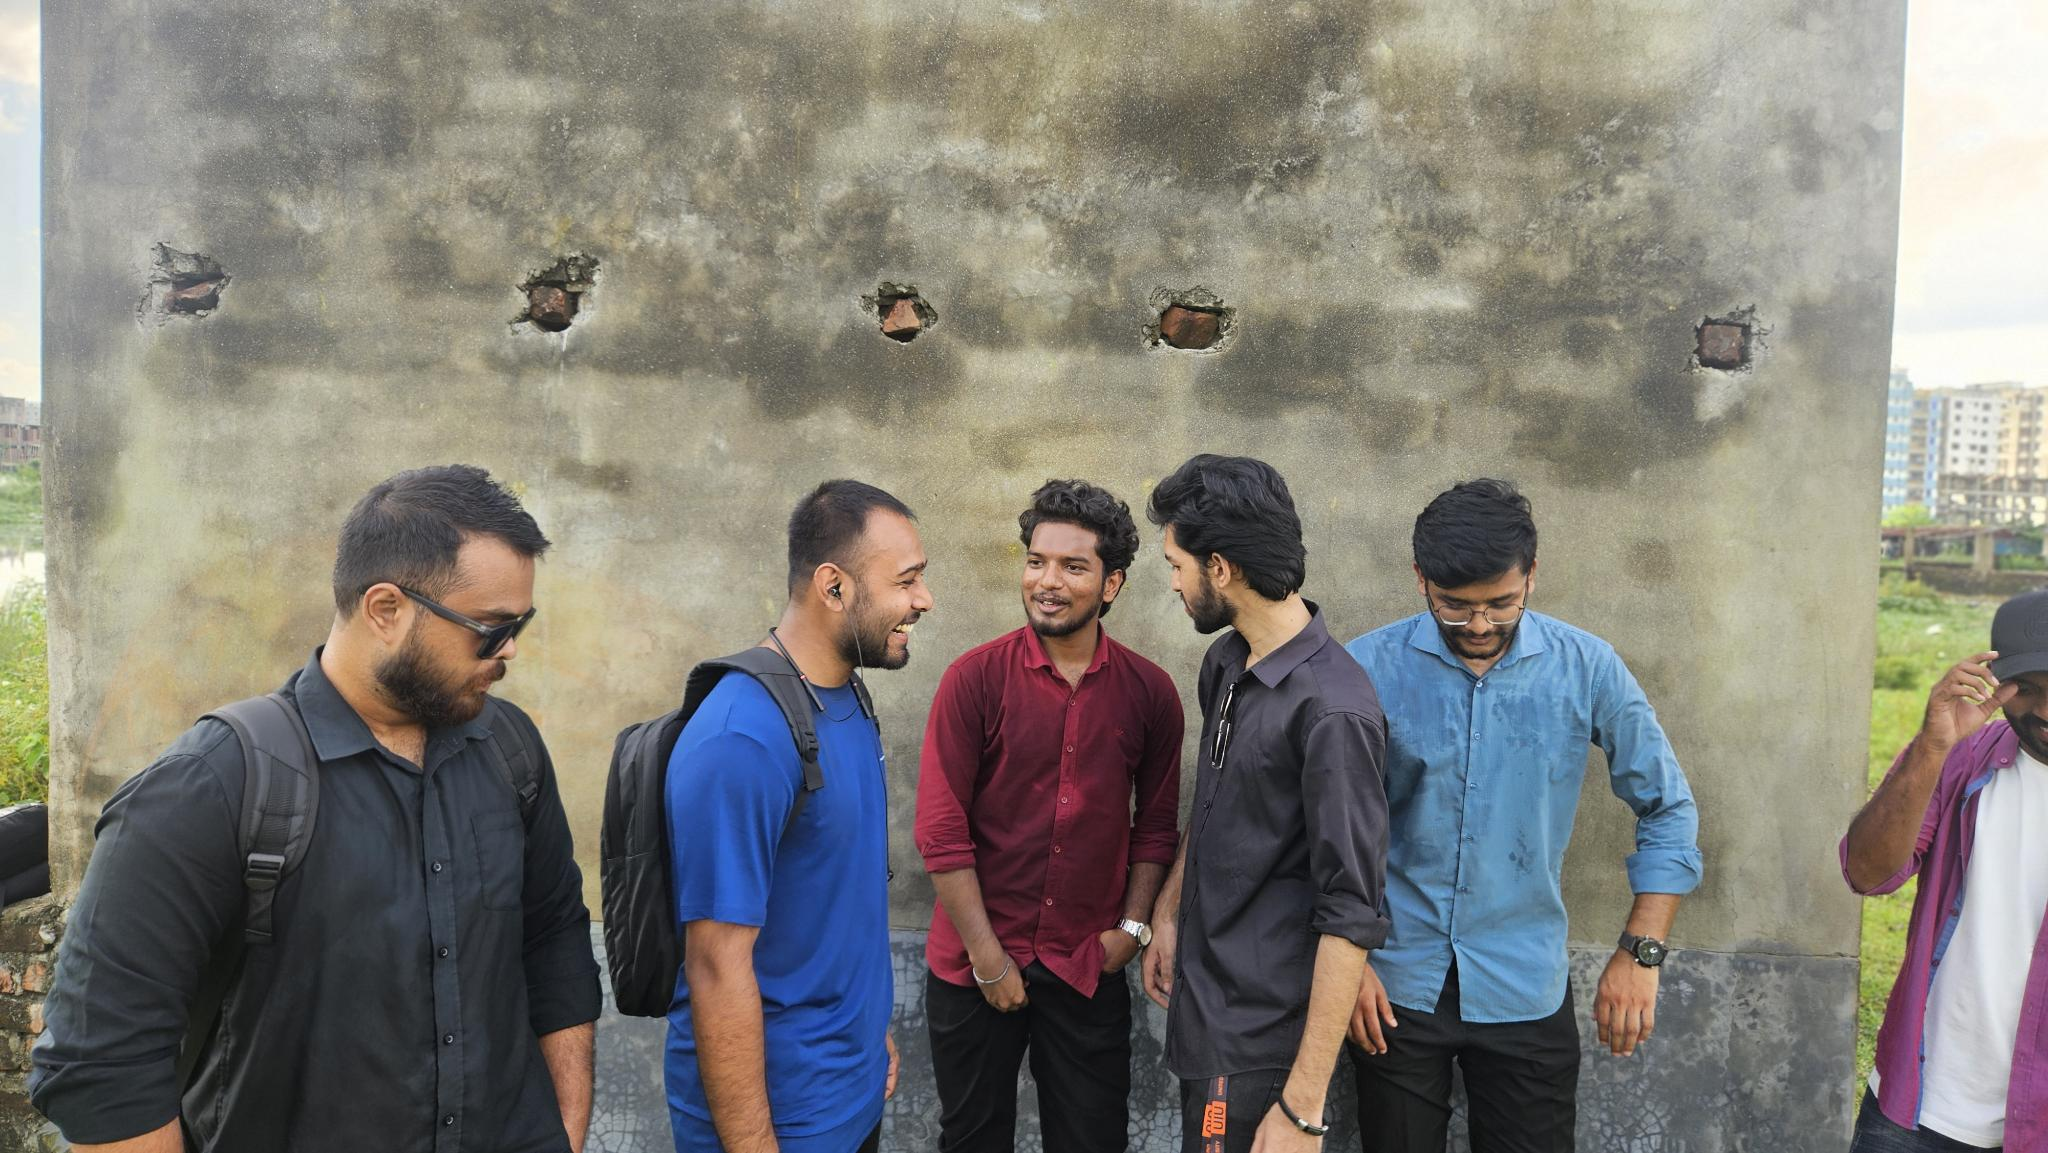nonSmoker: (24, 463, 601, 1153), (1340, 477, 1703, 1153), (598, 478, 934, 1153), (916, 479, 1187, 1153), (1148, 451, 1384, 1153), (1837, 574, 2048, 1153)
